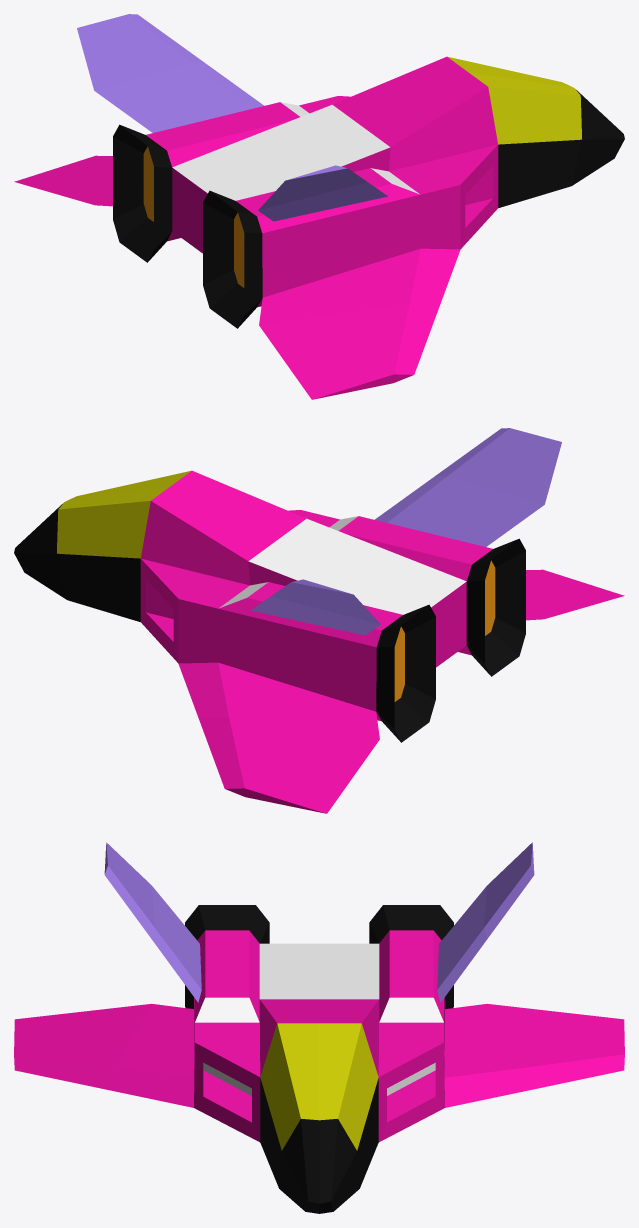
File: spaceship_flam.obj
3 views of the same model, one above another, from view 1: azimuth 30°, elevation 25°; view 2: azimuth 150°, elevation 25°; view 3: azimuth 270°, elevation 25° (orthographic). The views are drawn at different scales.
Parts seen in each view (by area): view 1: Cube; view 2: Cube; view 3: Cube.
Part boxes in pixels (x1,y1,x2,y2): Cube: [14, 14, 624, 399]; Cube: [14, 428, 624, 813]; Cube: [14, 842, 624, 1213].
Bounding box in the file's own units: 9.59 × 3.73 × 10.76.
